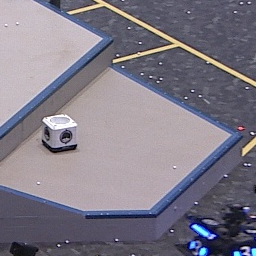Blue: (187, 239, 210, 256), (232, 247, 256, 256)
Robot: (184, 203, 256, 256)
